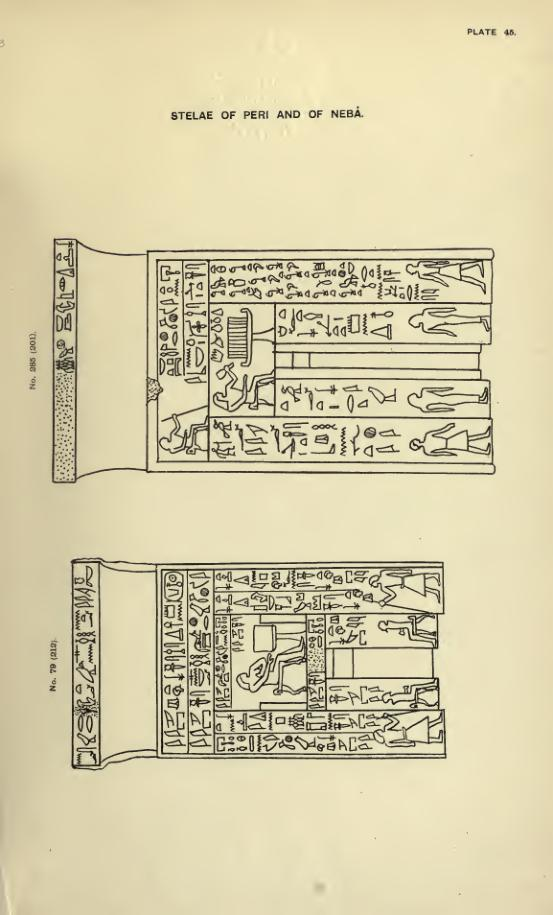circle: (164, 570, 184, 602)
